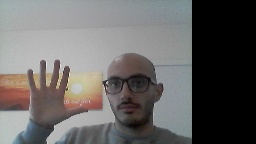Mano_aperta: (20, 56, 91, 133)
